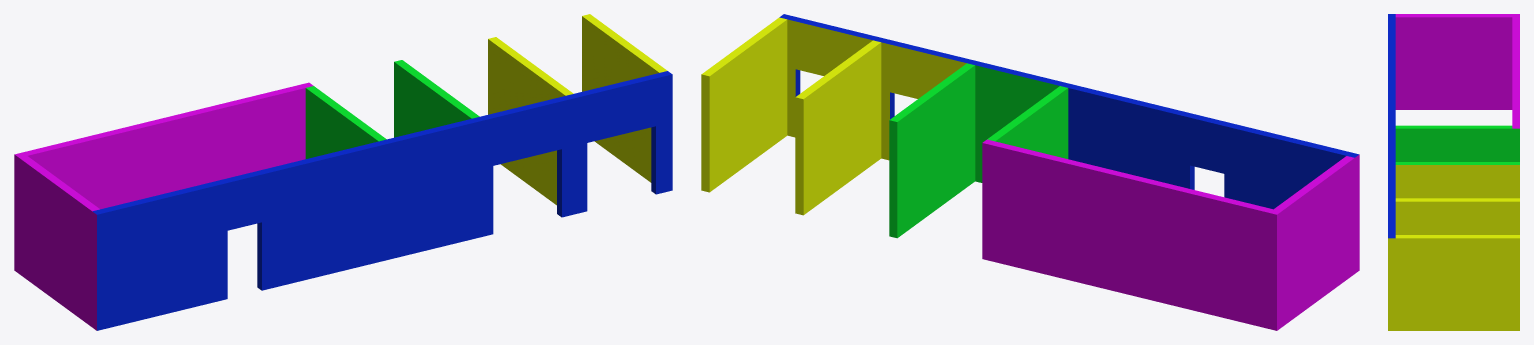
The model's file is BankStorageAreaWall1.FBX.
3 views of the same model, side by side, from view 1: azimuth 30°, elevation 25°; view 2: azimuth 150°, elevation 25°; view 3: azimuth 270°, elevation 25° (orthographic). The views are drawn at different scales.
Parts seen in each view (by area): view 1: BankStorageAreaWall1; view 2: BankStorageAreaWall1; view 3: BankStorageAreaWall1.
Boxes of the visible parts, x1=… form: BankStorageAreaWall1: x1=14, y1=14, x2=672, y2=330; BankStorageAreaWall1: x1=701, y1=14, x2=1359, y2=330; BankStorageAreaWall1: x1=1388, y1=14, x2=1519, y2=330.
Bounding box in the file's own units: 1791 × 345 × 444.
